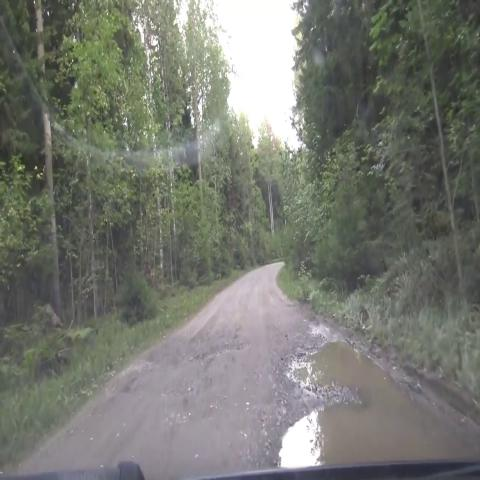pothole: (257, 322, 456, 467), (155, 371, 225, 419), (179, 342, 254, 372), (116, 361, 145, 408)
